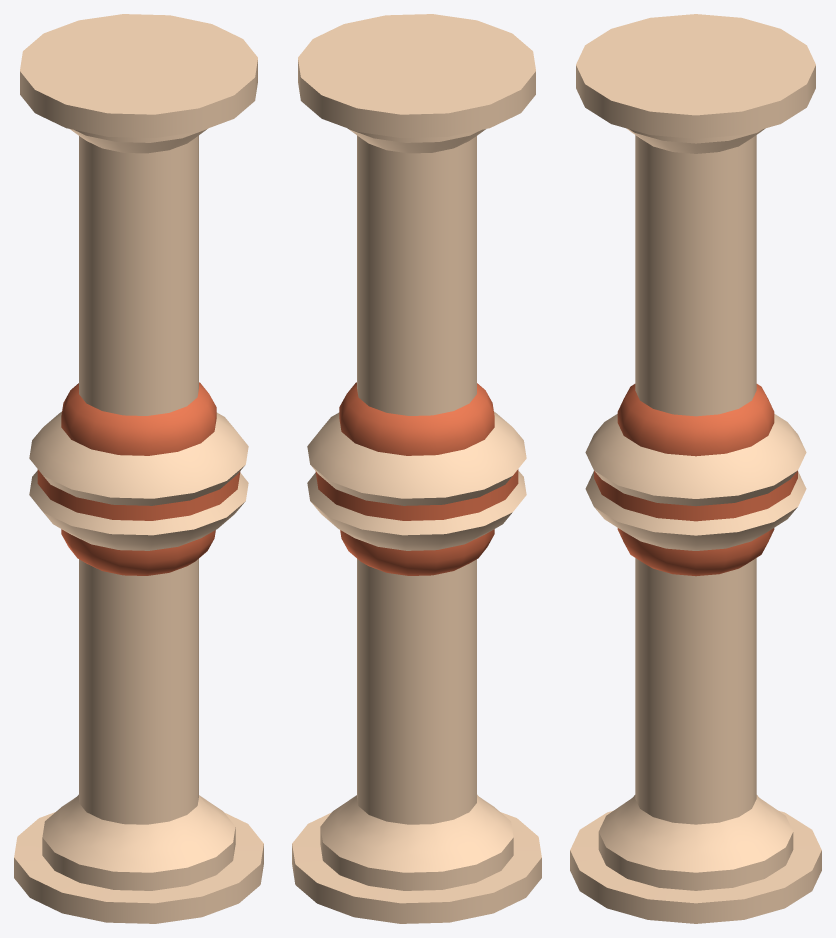
The model's file is PillarC.fbx.
The picture shows the model from 3 angles, left to right: view 1: azimuth 30°, elevation 25°; view 2: azimuth 150°, elevation 25°; view 3: azimuth 270°, elevation 25°; orthographic projection.
Parts seen in each view (by area): view 1: Object; view 2: Object; view 3: Object.
Part boxes in pixels (x1,y1,x2,y2): Object: (14,14,263,923); Object: (292,14,541,923); Object: (570,14,821,923).
Bounding box in the file's own units: 259 × 914 × 259.
